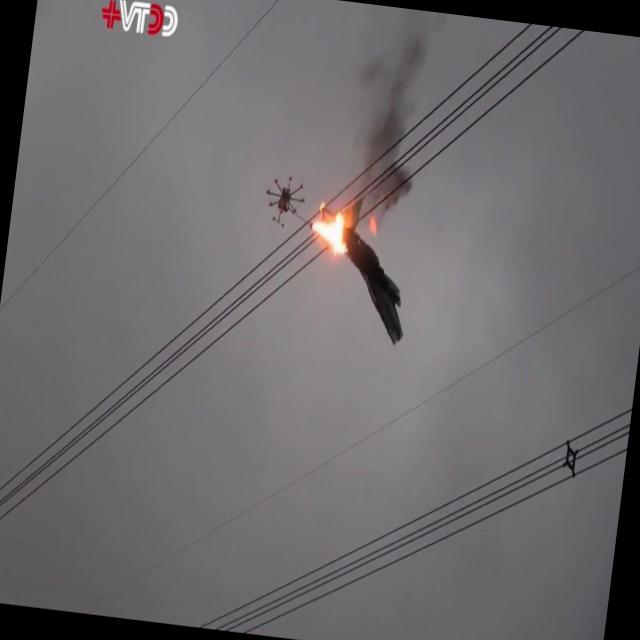drone: (262, 172, 308, 233)
